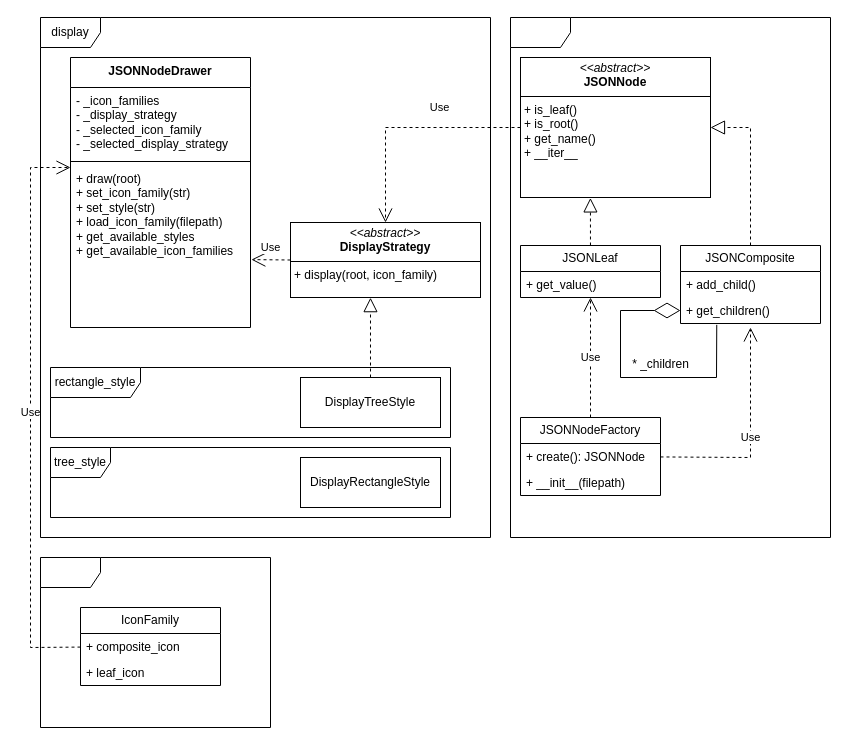
Some shapes in this 848 by 745 pixel diagram are drawn without their labels. The shapes that lost their labels are listed below. From the top down, each one's centre as x and y in pixels, then its label:
At pixel 670 277: "node".
At pixel 155 642: "icon".
